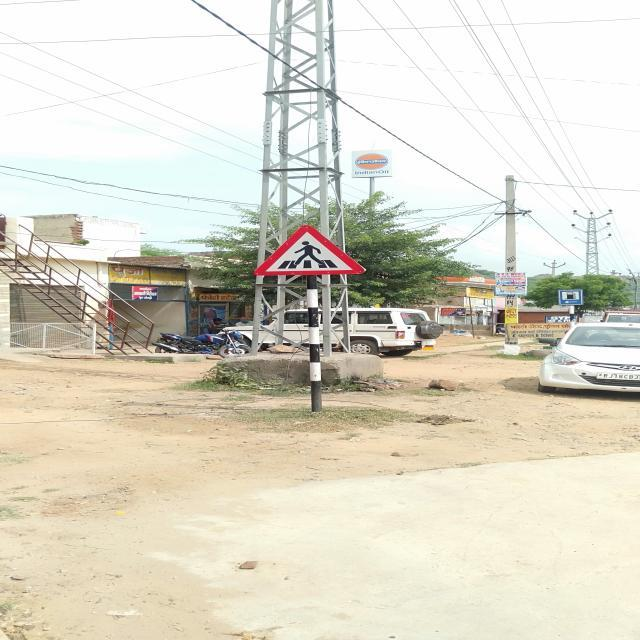pedestrian crossing: (252, 225, 366, 275)
